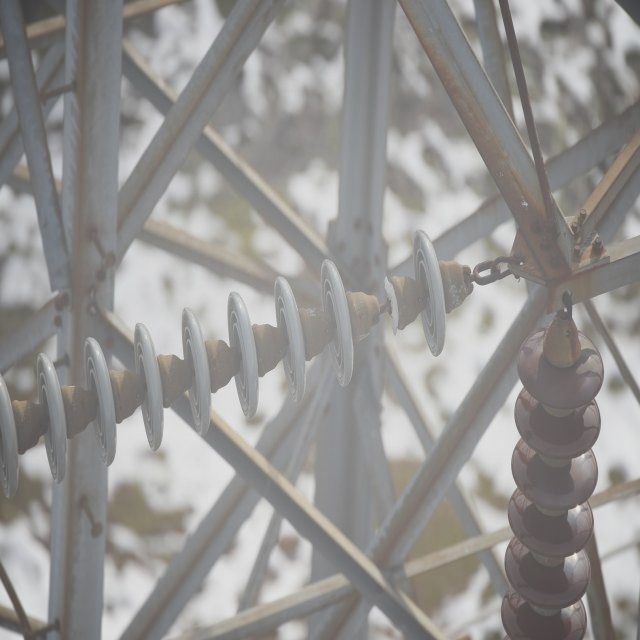broken: (382, 274, 401, 338)
insulator: (1, 225, 446, 502)
